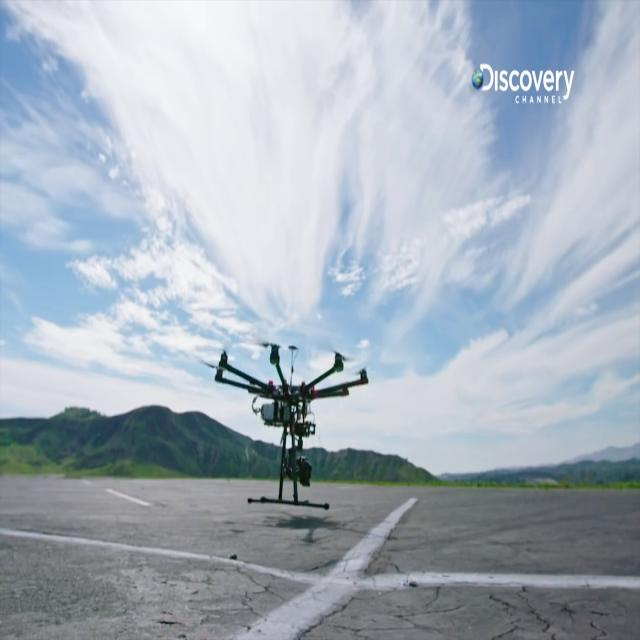drone: (204, 278, 364, 551)
